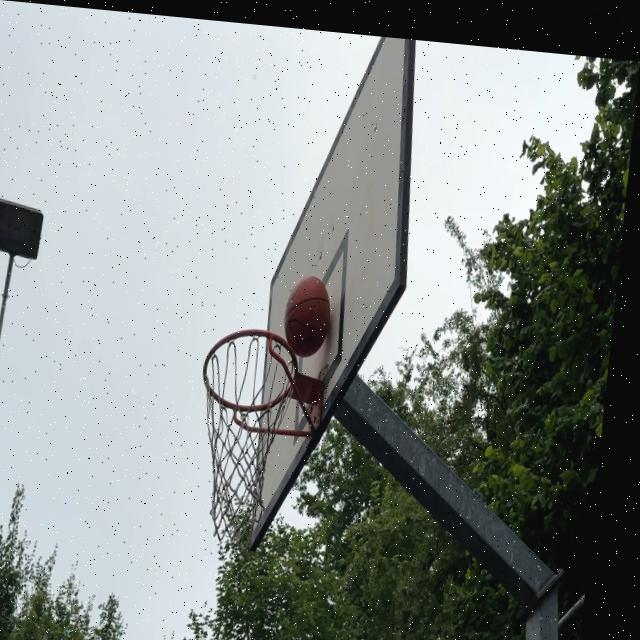rebound_hit: (281, 273, 340, 359)
